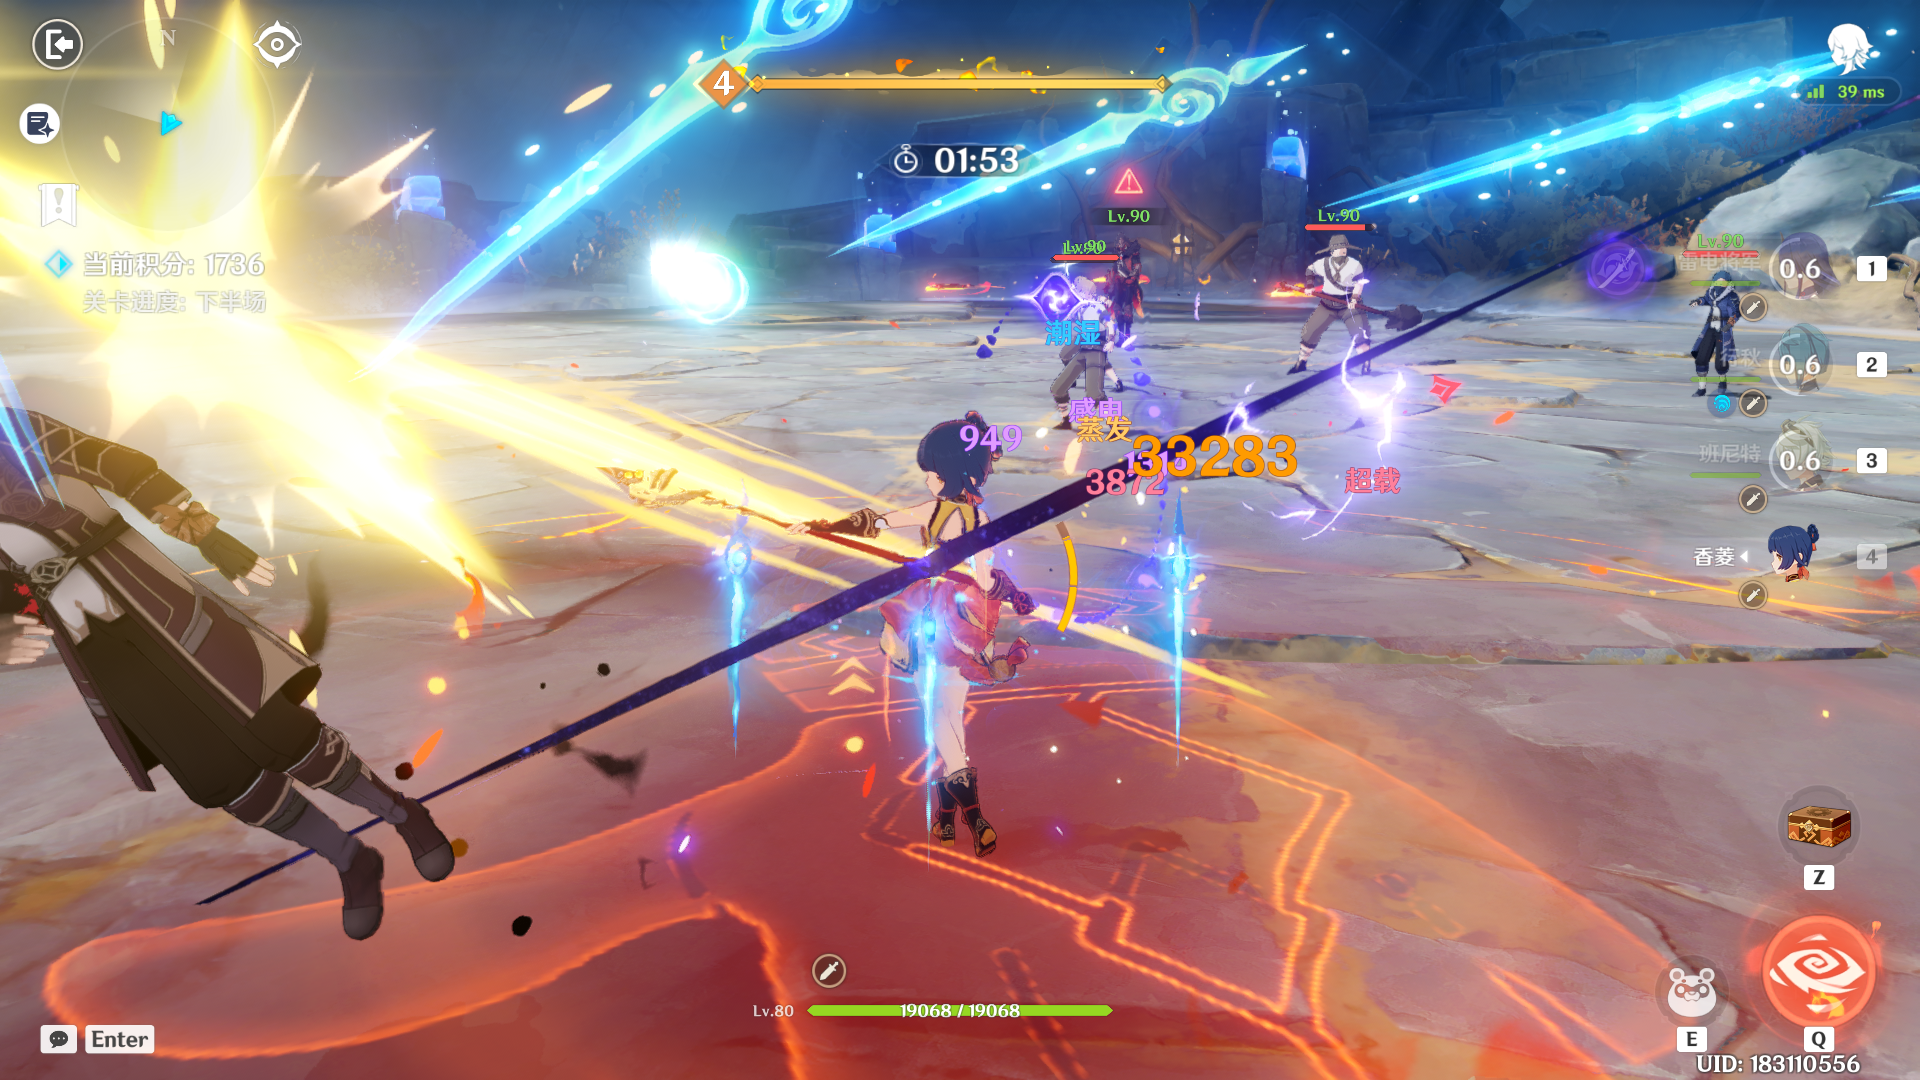character: (811, 375, 1050, 849)
robber: (1266, 216, 1427, 433), (1000, 248, 1150, 423), (1680, 244, 1766, 419)
